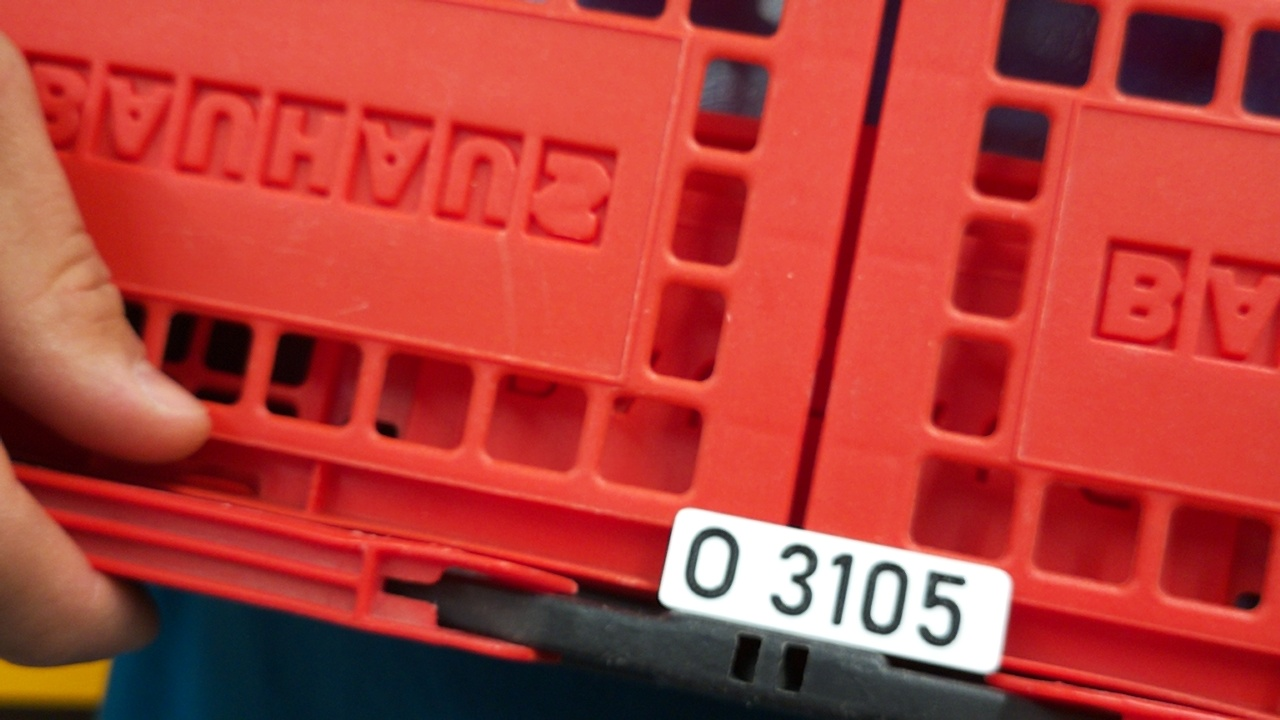license_plate: (657, 491, 1016, 675)
